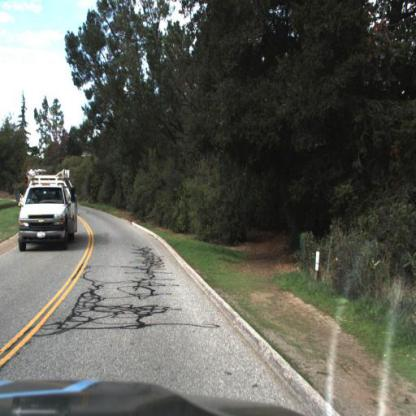car: (11, 165, 82, 257), (16, 167, 78, 247)
